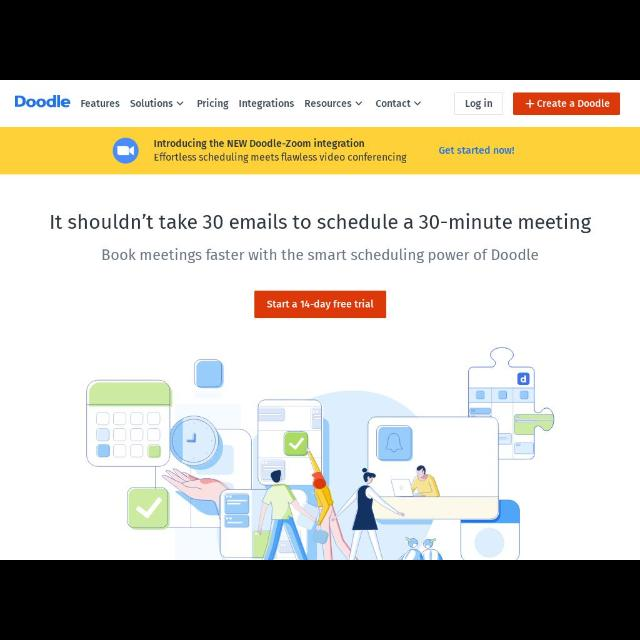icon: (526, 100, 534, 108), (176, 101, 184, 105), (414, 101, 422, 105), (356, 101, 362, 105)
image: (84, 348, 556, 560), (113, 138, 139, 164), (15, 96, 70, 108)
spinner: (130, 99, 183, 108), (306, 100, 362, 108), (376, 100, 422, 108)
text: (51, 212, 591, 234), (102, 248, 538, 264), (155, 152, 407, 164), (154, 138, 363, 150), (268, 300, 374, 310), (240, 98, 294, 110), (440, 146, 514, 154), (538, 100, 610, 108), (304, 100, 352, 108), (131, 99, 173, 108), (198, 98, 228, 110), (466, 98, 492, 110), (81, 100, 119, 108), (376, 100, 410, 108)
textbutton: (256, 292, 386, 318), (514, 93, 620, 115), (456, 94, 502, 115)
toolbar: (1, 82, 638, 126)
